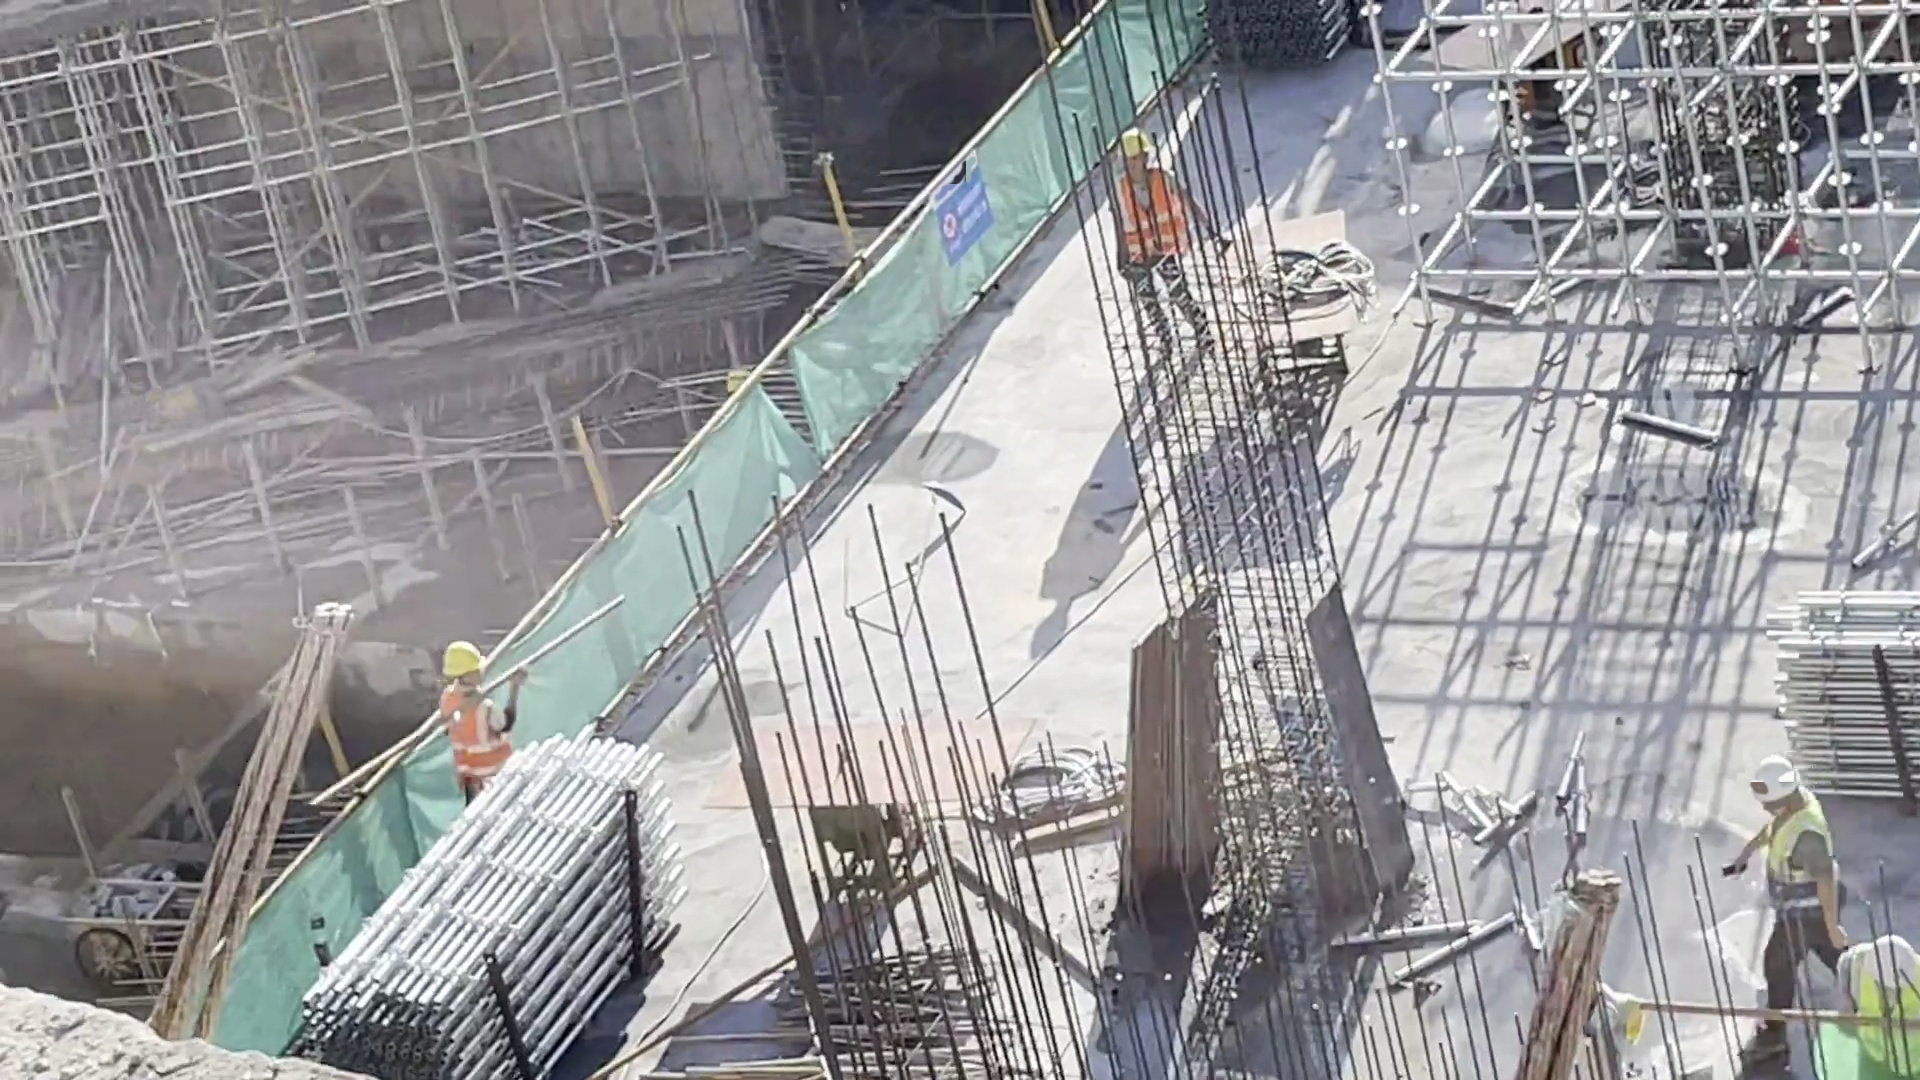cutter: (713, 720, 995, 863), (1464, 1, 1608, 181), (1242, 223, 1356, 398)
helmet: (1863, 934, 1912, 990), (436, 637, 489, 680), (1755, 764, 1808, 802), (1115, 121, 1163, 160)
person: (1713, 753, 1852, 1073), (1104, 128, 1235, 360), (433, 641, 530, 816), (1829, 934, 1920, 1080)
scaffold: (352, 772, 681, 1048), (1791, 608, 1920, 794), (1207, 1, 1356, 60)
slogan: (934, 173, 993, 257)
vest: (1109, 179, 1205, 276), (1773, 818, 1846, 933), (443, 692, 517, 787), (1843, 976, 1917, 1064)
